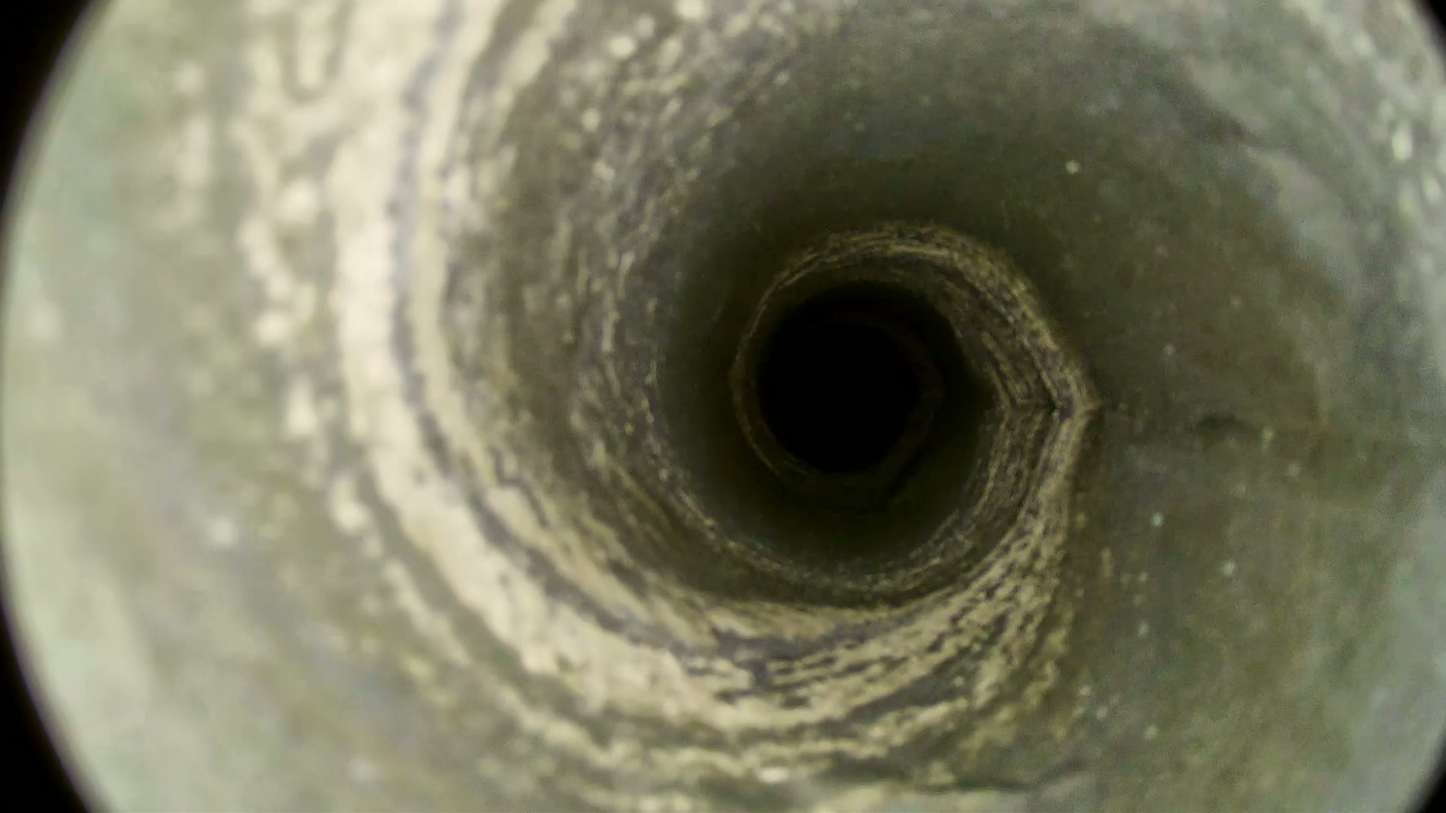hole: (770, 329, 911, 472)
